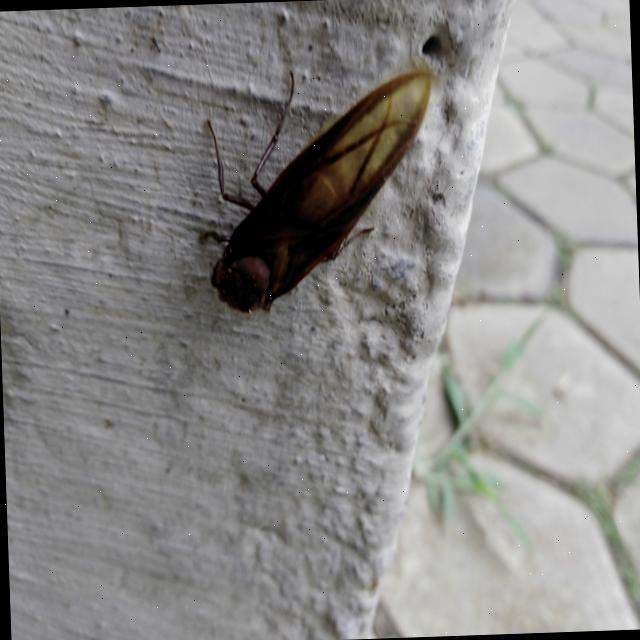Alive-Female-Alate: (192, 53, 449, 318)
